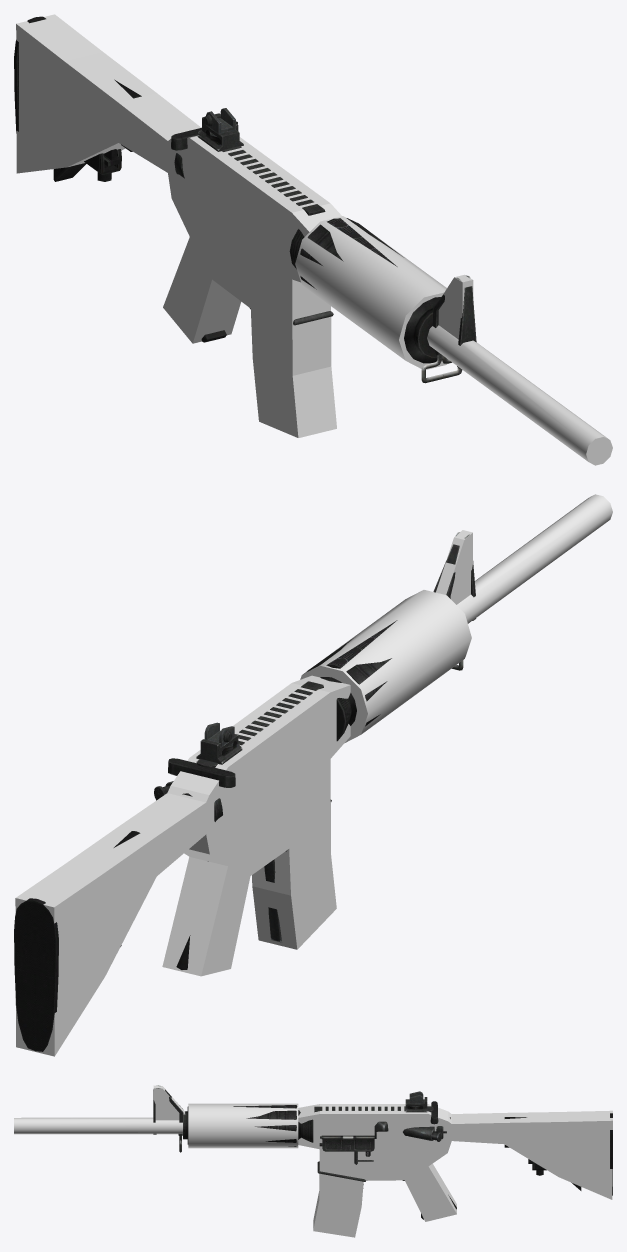
3 renders of one model, top to bottom at view 1: azimuth 30°, elevation 25°; view 2: azimuth 150°, elevation 25°; view 3: azimuth 270°, elevation 25°, orthographic. The views are drawn at different scales.
Parts seen in each view (by area): view 1: lod, W_M4; view 2: lod, W_M4; view 3: lod, W_M4.
Boxes of the visible parts, x1,y1,x2,y2 form: lod: (16,14,612,465); W_M4: (14,16,476,383); lod: (15,494,612,1056); W_M4: (14,532,476,1051); lod: (14,1085,612,1237); W_M4: (153,1085,612,1219).
Size of the model in its own units: 7.75 by 24.68 by 91.73.
